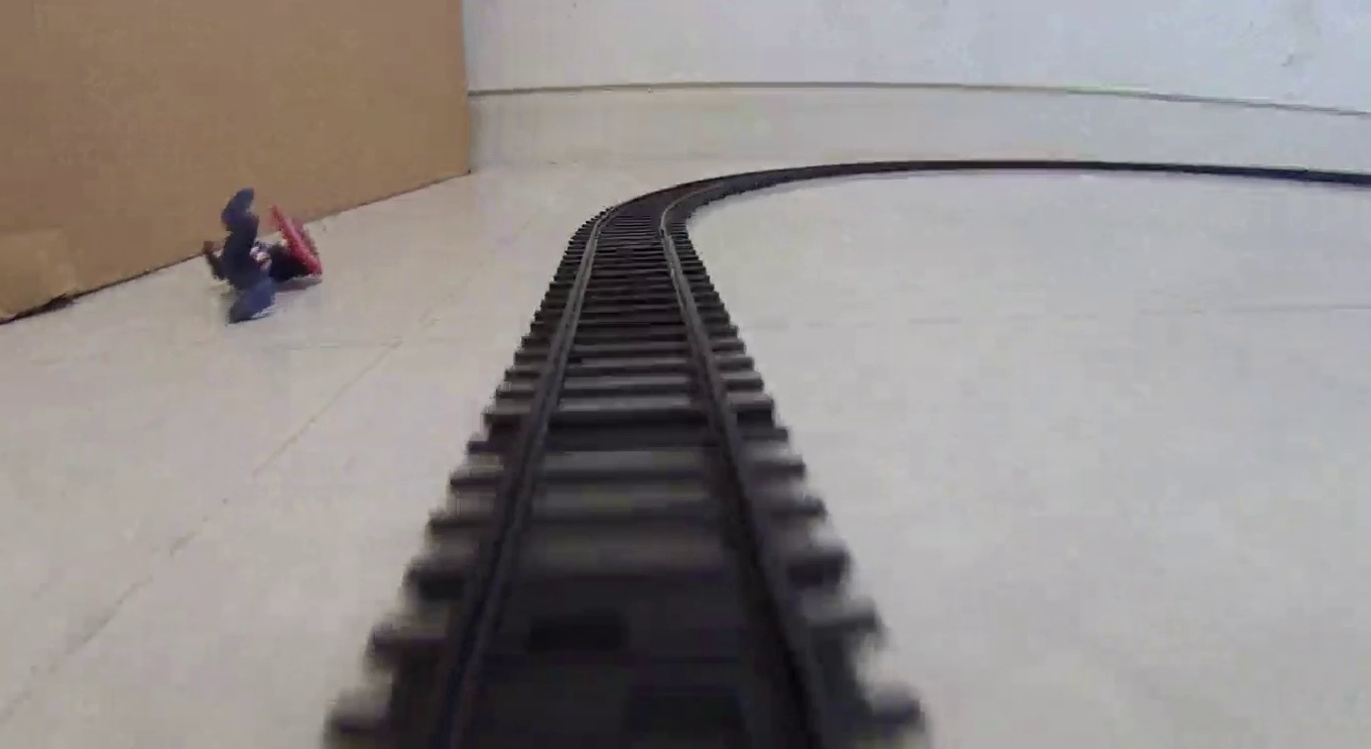people: (203, 187, 324, 319)
